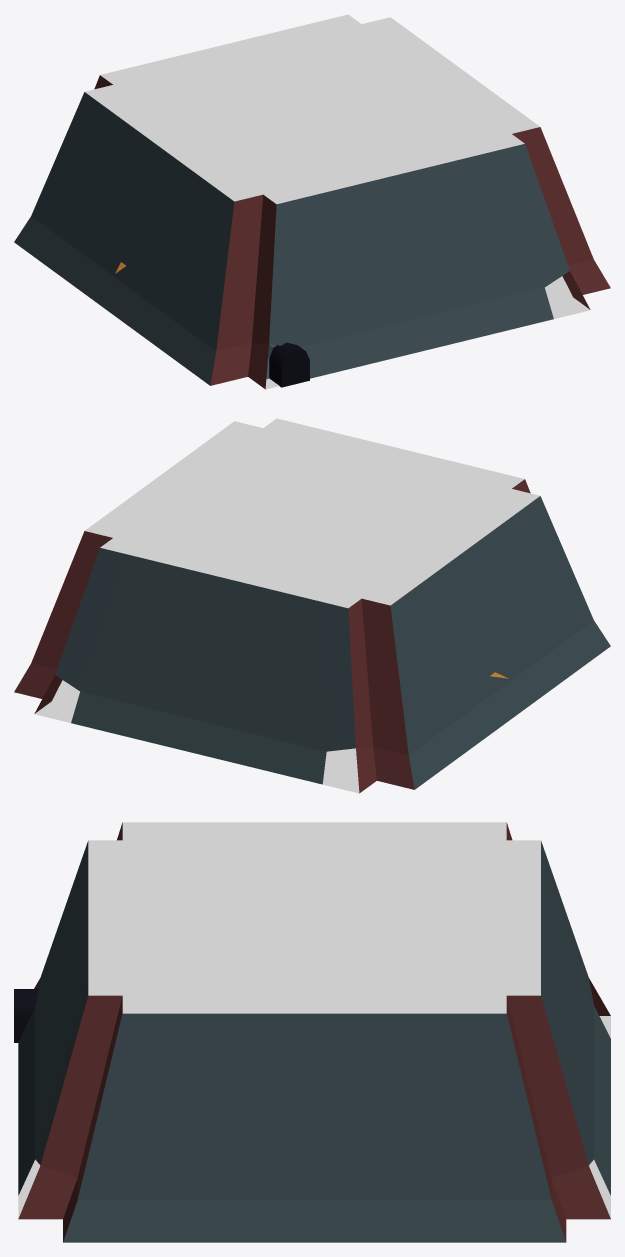
Rendered from Map.fbx.
3 renders of one model, top to bottom at view 1: azimuth 30°, elevation 25°; view 2: azimuth 150°, elevation 25°; view 3: azimuth 270°, elevation 25°, orthographic. The views are drawn at different scales.
Parts seen in each view (by area): view 1: Dome, Entrance; view 2: Dome; view 3: Dome, Entrance.
Part boxes in pixels (box(x1,y1,x2,y2)): Dome: box(14, 14, 610, 389); Entrance: box(266, 342, 309, 387); Dome: box(14, 418, 610, 793); Dome: box(18, 822, 610, 1242); Entrance: box(14, 989, 38, 1042).
Size of the model in its own units: 3689 by 1382 by 3715.
